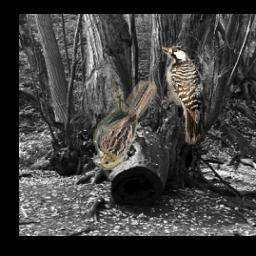Sparrow: (92, 80, 156, 171)
Woodpecker: (161, 46, 204, 145)
